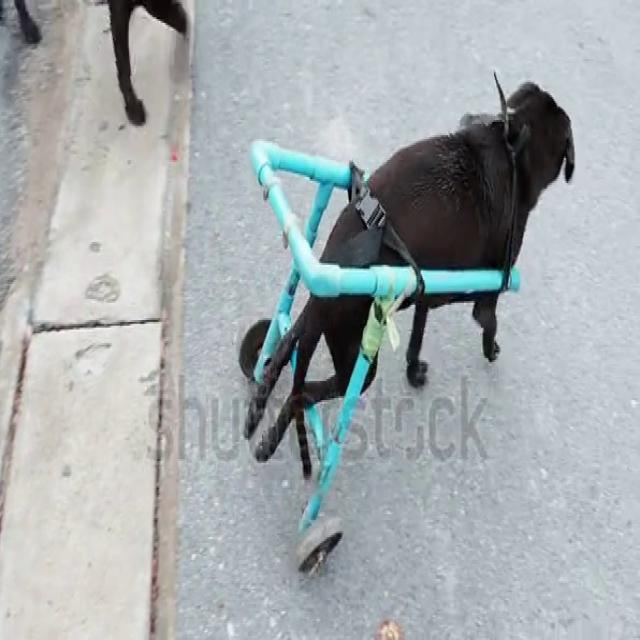injured-animals: (233, 65, 578, 579)
